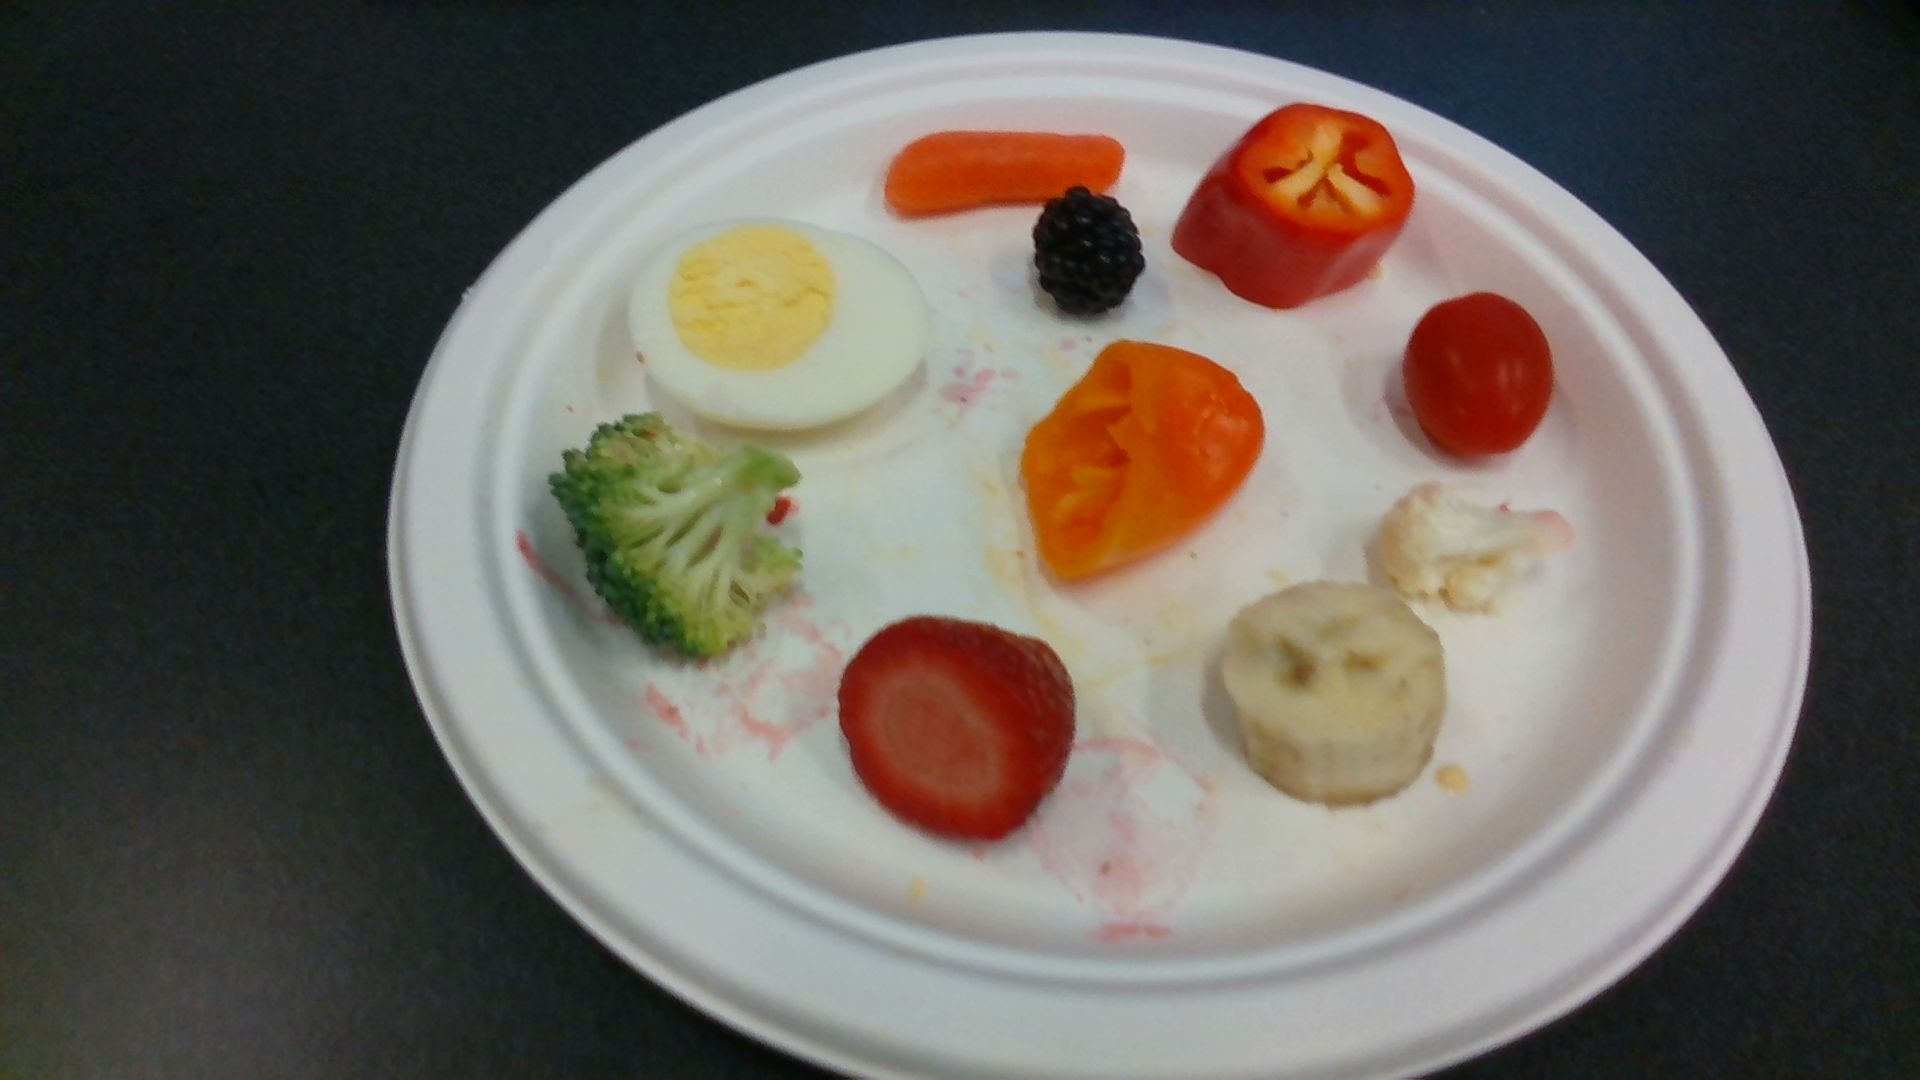banana: (1226, 583, 1444, 808)
bell_pepper: (1025, 342, 1265, 582), (1175, 105, 1414, 306)
blackberry: (1033, 190, 1145, 313)
broccoli: (553, 418, 799, 647)
carrot: (889, 131, 1124, 214)
cauliflower: (1379, 485, 1572, 607)
cherry_tomato: (1404, 295, 1553, 460)
egg: (630, 220, 932, 429)
strawberry: (840, 616, 1075, 847)
